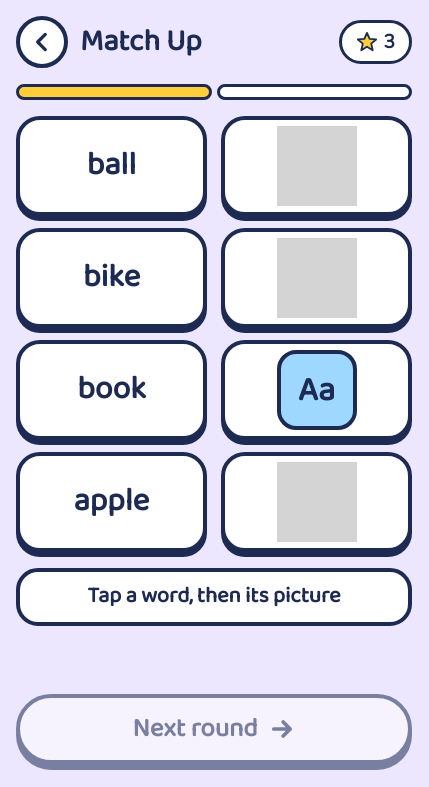
Test: MatchUp screen › guides the pick and locks a matched pair
This screenshot has width=429, height=787.
Step 1. Click the button with aria-label "Word ball" → (112, 166), box [16,116,207,216]
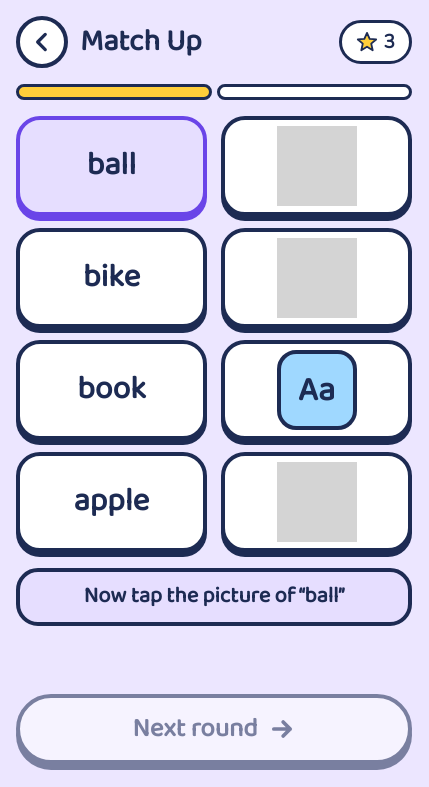
Now the message reads "Now tap the picture of “ball”", box [84,578,344,614]
Step 2. Click the button named "Picture of a ball" → (316, 278), box [221,228,412,328]
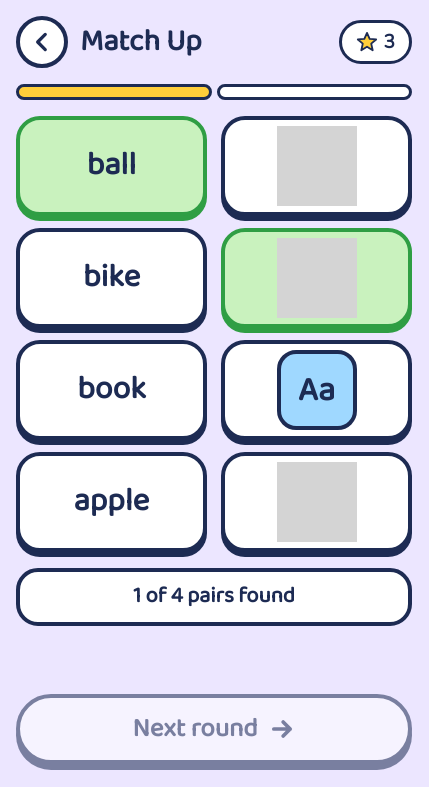
Now the button with aria-label "Word ball" is disabled, box [16,116,207,216]
Now the button named "Picture of a ball" is disabled, box [221,228,412,328]
Now the message reads "1 of 4 pairs found", box [133,578,295,614]
Step 3. Click the button named "Picture of a bike" → (316, 502), box [221,452,412,552]
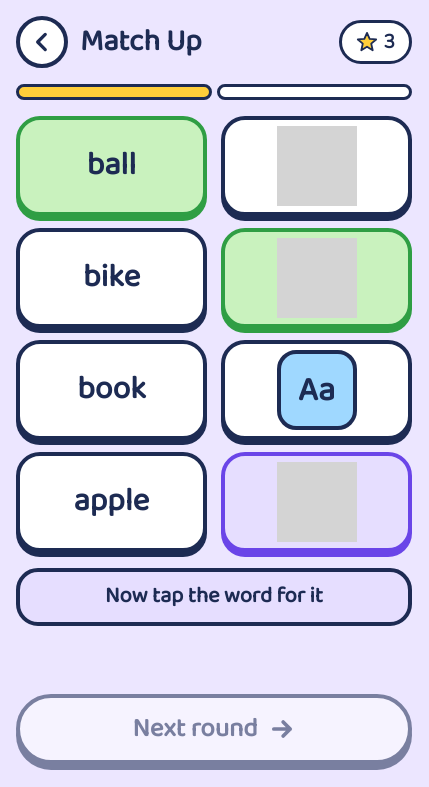
Now the message reads "Now tap the word for it", box [105,578,323,614]
Step 4. Click the button named "Picture of a bike" → (316, 502), box [221,452,412,552]
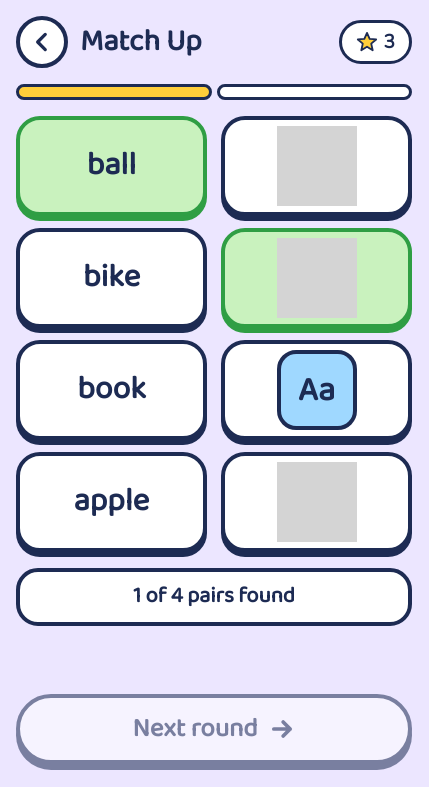
Now the message reads "1 of 4 pairs found", box [133,578,295,614]
